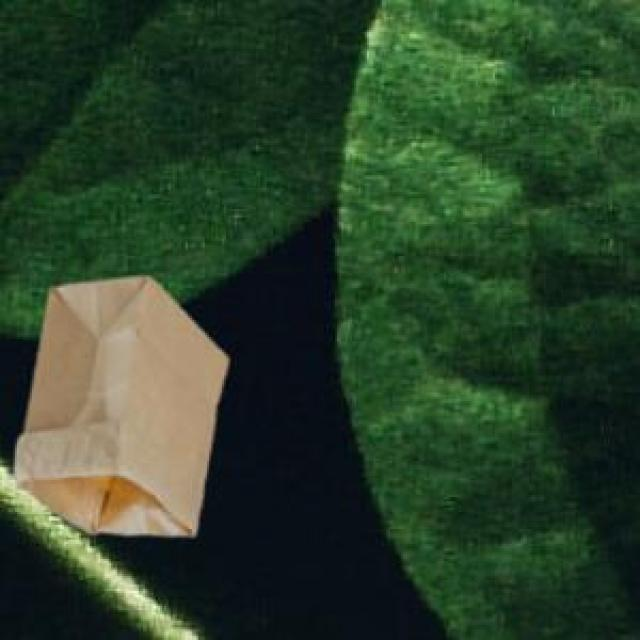paper: (13, 273, 224, 531)
